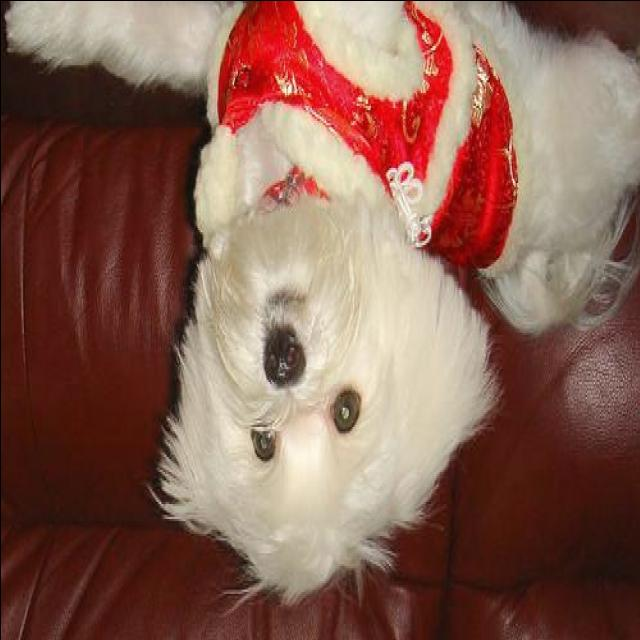maltese_dog: (2, 2, 638, 612)
